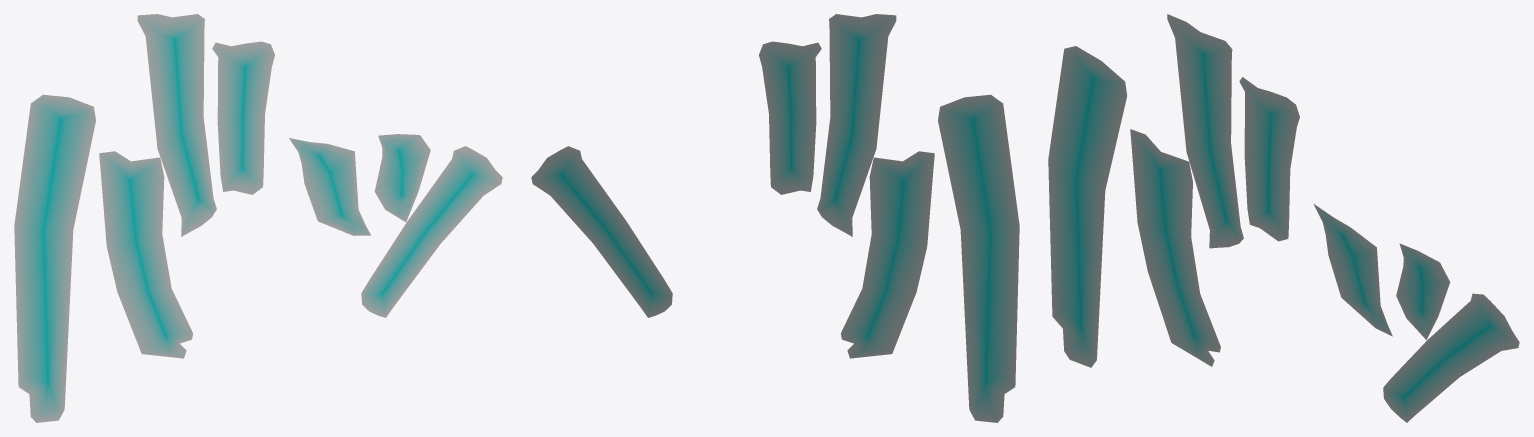
File: SM_EFF_Text_ShikigamiDanceShield_01.glb
3 renders of one model, left to right at view 1: azimuth 30°, elevation 25°; view 2: azimuth 150°, elevation 25°; view 3: azimuth 330°, elevation 25°, orthographic. The views are drawn at different scales.
Visible parts, largest first — view 1: SM_EFF_Text_ShikigamiDanceShield_01; view 2: SM_EFF_Text_ShikigamiDanceShield_01; view 3: SM_EFF_Text_ShikigamiDanceShield_01.
Part boxes in pixels (box(x1,y1,x2,y2)): SM_EFF_Text_ShikigamiDanceShield_01: box(14, 14, 502, 422); SM_EFF_Text_ShikigamiDanceShield_01: box(531, 14, 1019, 422); SM_EFF_Text_ShikigamiDanceShield_01: box(1048, 14, 1519, 422).
Bounding box in the file's own units: 1.82 × 1.37 × 6.39e-07.
